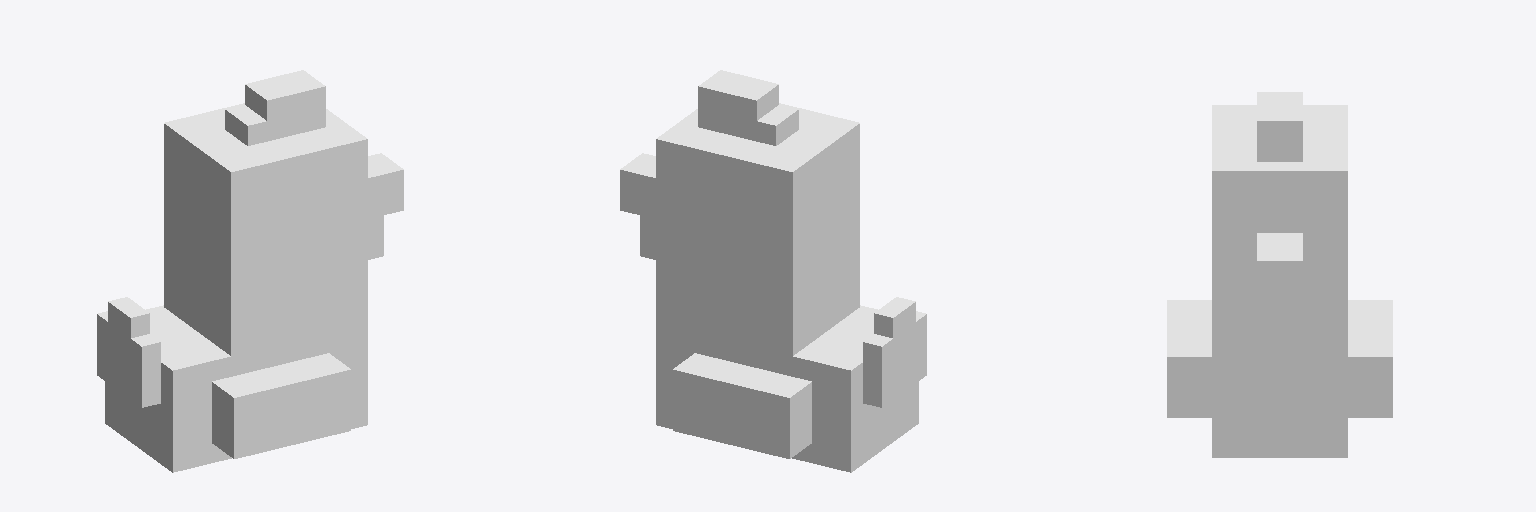
File: ChicBody-2.obj
3 views of the same model, side by side, from view 1: azimuth 30°, elevation 25°; view 2: azimuth 150°, elevation 25°; view 3: azimuth 270°, elevation 25° (orthographic).
Parts seen in each view (by area): view 1: object 1; view 2: object 1; view 3: object 1.
Boxes of the visible parts, x1,y1,x2,y2 form: object 1: [97, 70, 403, 472]; object 1: [620, 70, 926, 472]; object 1: [1167, 92, 1392, 457].
Bounding box in the file's own units: 1.4 × 1.6 × 1.